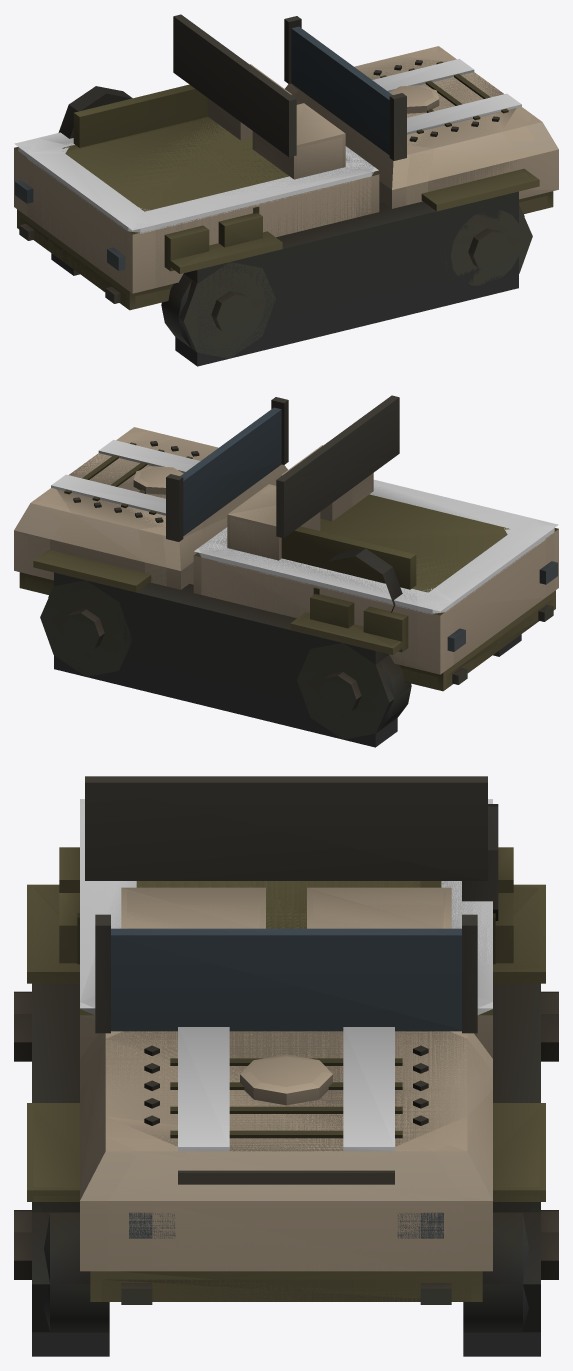
File: meridian_light_transport.glb
3 views of the same model, one above another, from view 1: azimuth 30°, elevation 25°; view 2: azimuth 150°, elevation 25°; view 3: azimuth 270°, elevation 25° (orthographic). The views are drawn at different scales.
Visible parts, largest first — view 1: hull (×3); view 2: hull (×3); view 3: hull (×3).
Part boxes in pixels (left/top/right/bottom): hull (×3): left=14, top=14, right=558, bottom=366; hull (×3): left=14, top=395, right=558, bottom=747; hull (×3): left=14, top=776, right=558, bottom=1356.
Bounding box in the file's own units: 3.4 × 1.7 × 2.11.
